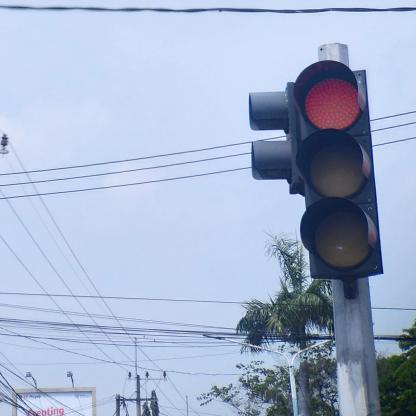red: (294, 63, 386, 278)
